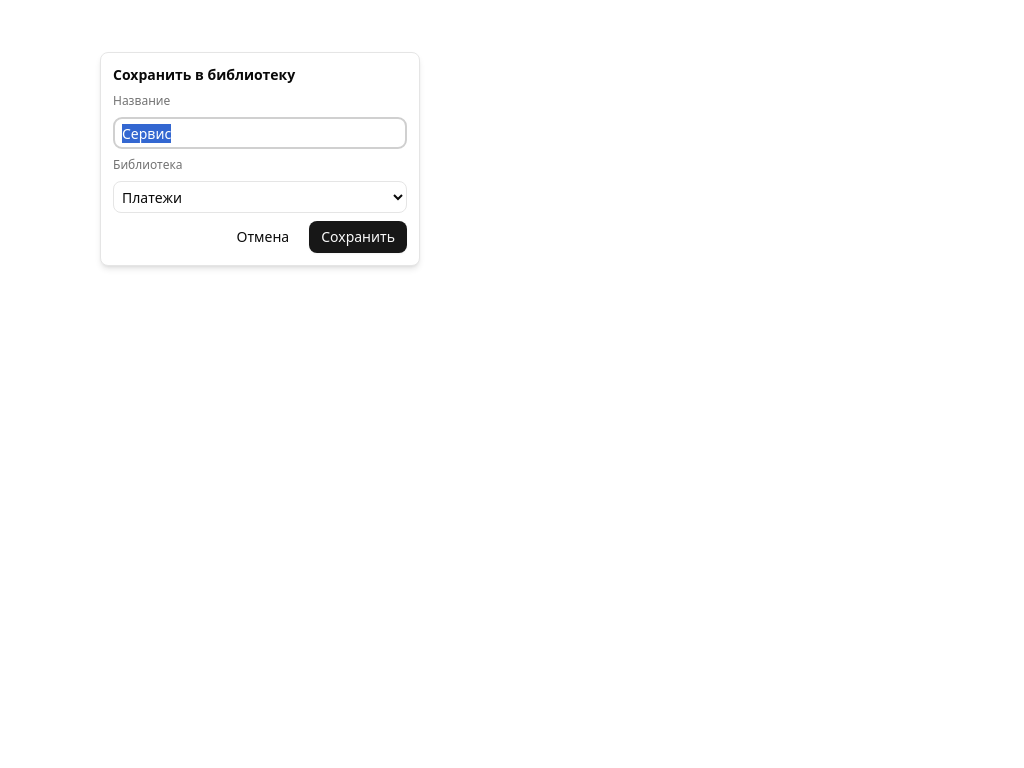
Scenario: SaveToLibraryDialog › stays open with the reason when saving fails
Click the button "Сохранить".
click(358, 237)  # box [309,221,407,253]
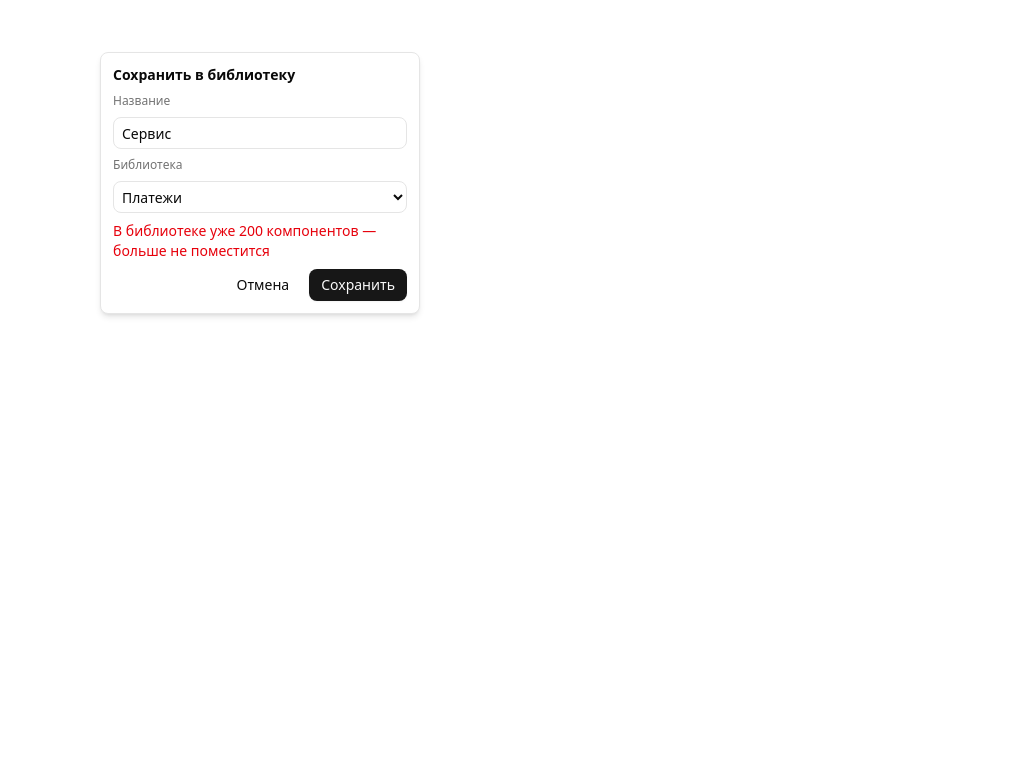
Expected: the message reads "В библиотеке уже 200 компонентов — больше не поместится", [113,221,376,260]
